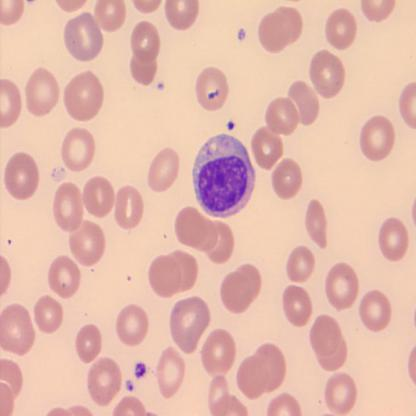Metamyelocyte: (190, 130, 258, 221)
